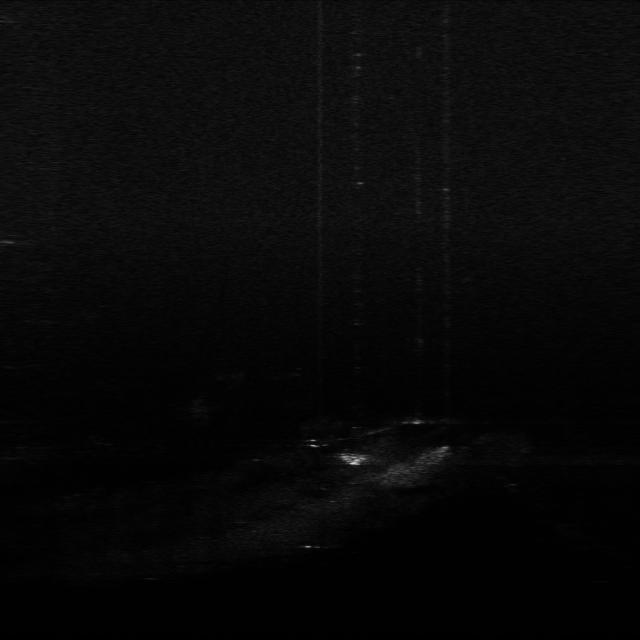rov: (338, 449, 372, 466)
